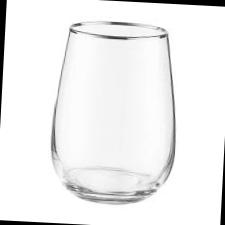glass: (32, 5, 196, 213)
